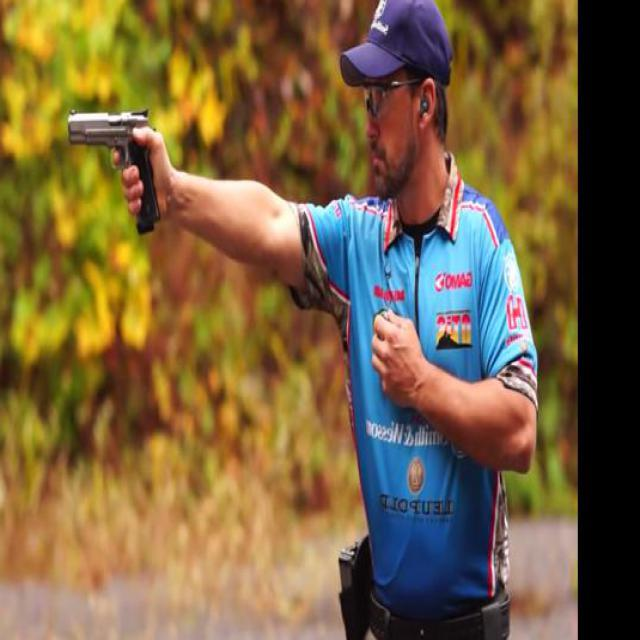Gun: (68, 103, 159, 232)
